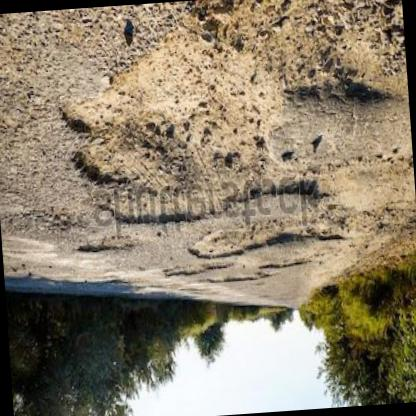pothole: (48, 0, 289, 235), (186, 207, 354, 264), (201, 255, 275, 287), (162, 261, 233, 282), (74, 235, 136, 259)
